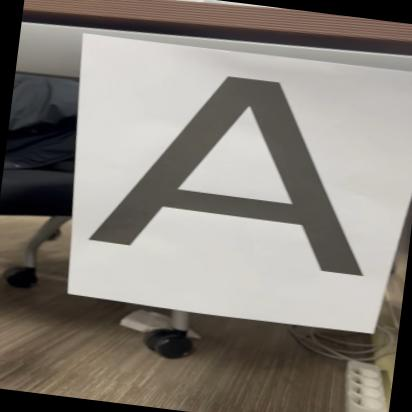seat: (90, 54, 400, 282)
